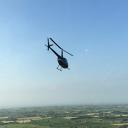helicopter: (44, 37, 77, 72)
